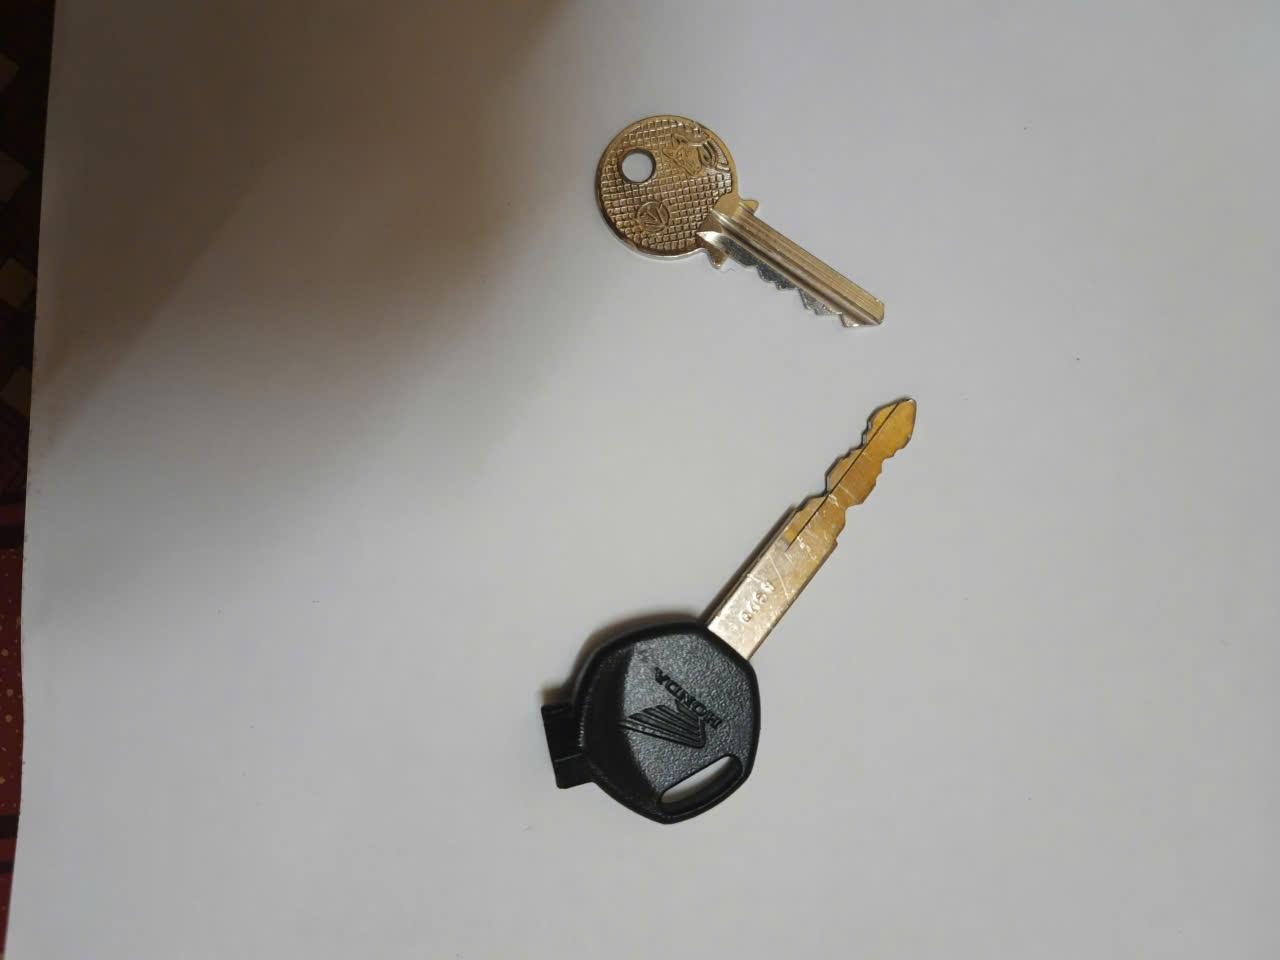Vo co: (540, 396, 921, 825), (590, 110, 885, 328)
